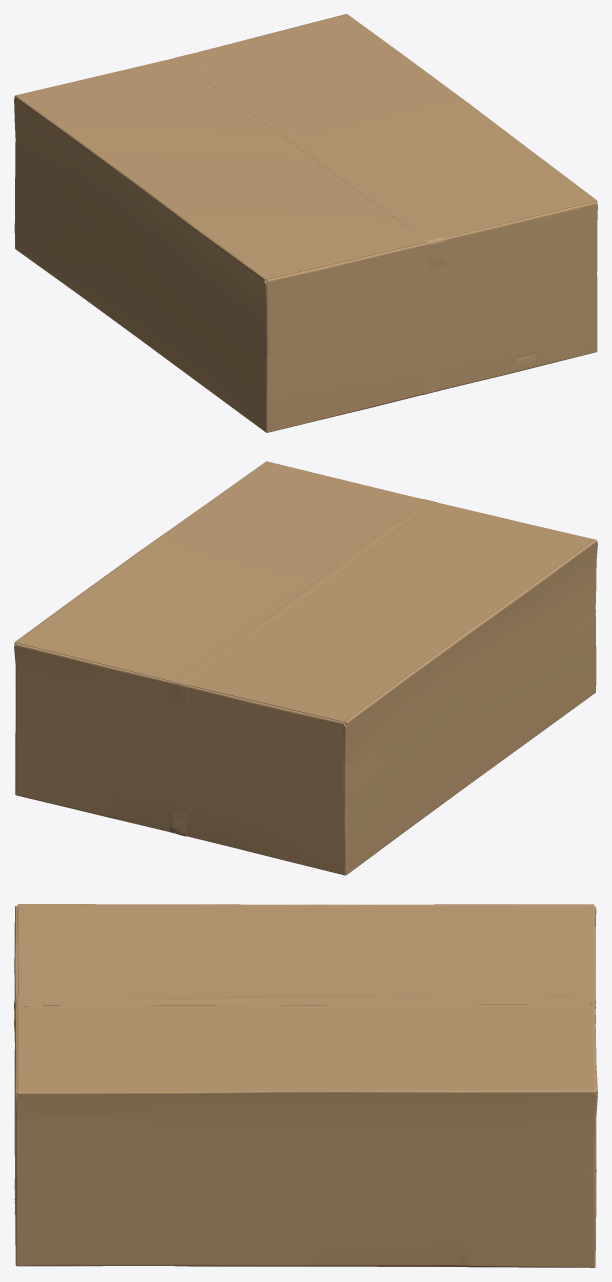
Rendered from box_corrugated_white_a30.glb.
3 views of the same model, one above another, from view 1: azimuth 30°, elevation 25°; view 2: azimuth 150°, elevation 25°; view 3: azimuth 270°, elevation 25° (orthographic). The views are drawn at different scales.
Bounding box in the file's own units: 0.2317 × 0.1031 × 0.3046.
